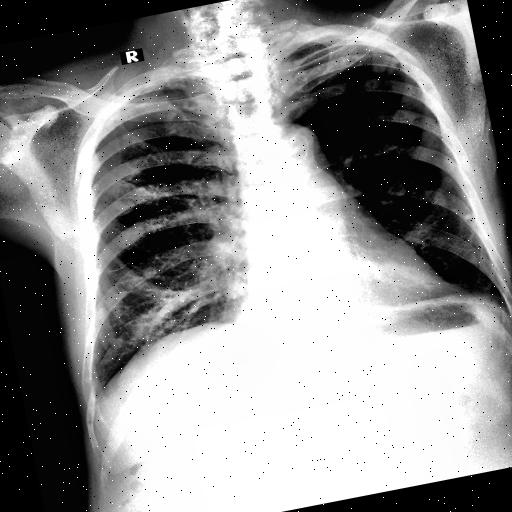0- Aortic enlargement: (264, 116, 334, 192), (262, 118, 330, 180)
13- Pulmonary fibrosis: (99, 253, 151, 274)
7- Lung Opacity: (361, 57, 400, 92)
8- Nodule-Mass: (223, 279, 250, 300), (370, 58, 388, 74), (142, 265, 160, 280), (364, 76, 382, 90), (142, 266, 158, 280), (462, 212, 473, 222)
9- Other lesion: (359, 58, 390, 92)
